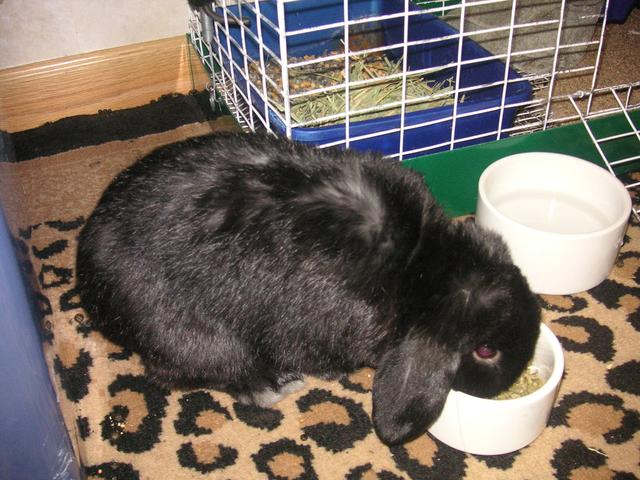rabbit: (52, 145, 567, 413)
